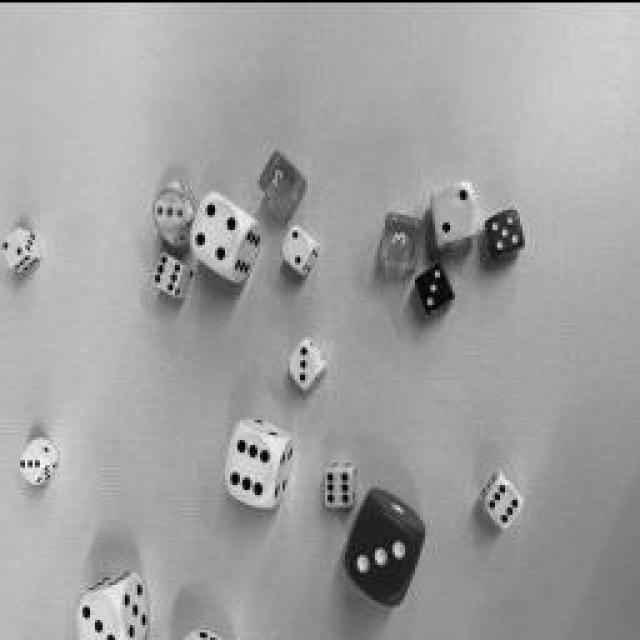dice_2: (432, 181, 472, 239), (282, 225, 308, 265), (3, 228, 25, 262)
dice_3: (348, 502, 412, 600), (79, 592, 121, 640), (260, 150, 295, 202), (382, 212, 418, 262), (155, 185, 190, 235), (415, 262, 450, 308), (289, 340, 319, 385), (20, 441, 42, 479)
dice_4: (192, 192, 242, 268)
dice_5: (488, 208, 522, 252)
dice_6: (225, 426, 275, 502), (488, 476, 522, 524), (152, 250, 182, 290), (325, 466, 350, 504)
